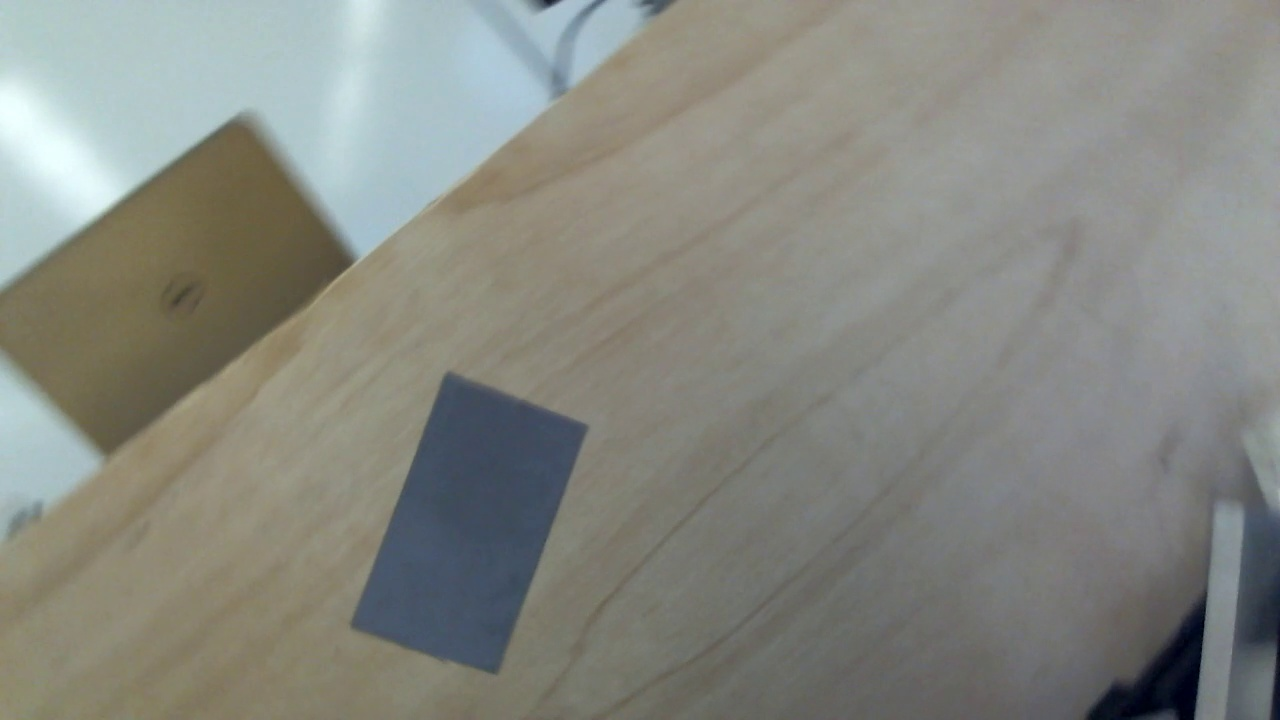Tape: (348, 372, 587, 674)
